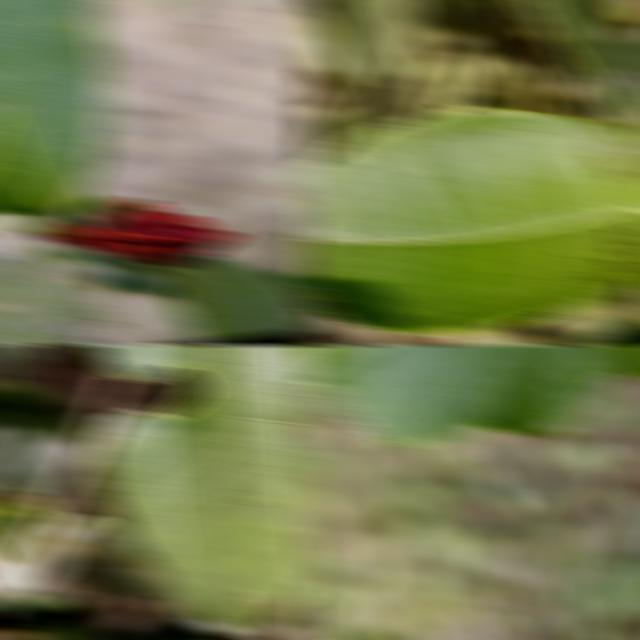Leaf: (298, 108, 640, 333), (89, 344, 316, 632), (298, 344, 640, 445), (0, 0, 111, 213), (126, 254, 316, 341), (511, 0, 627, 129), (319, 0, 423, 120), (0, 246, 121, 346), (0, 379, 86, 494), (298, 2, 356, 81), (571, 570, 621, 640), (606, 44, 640, 126)
